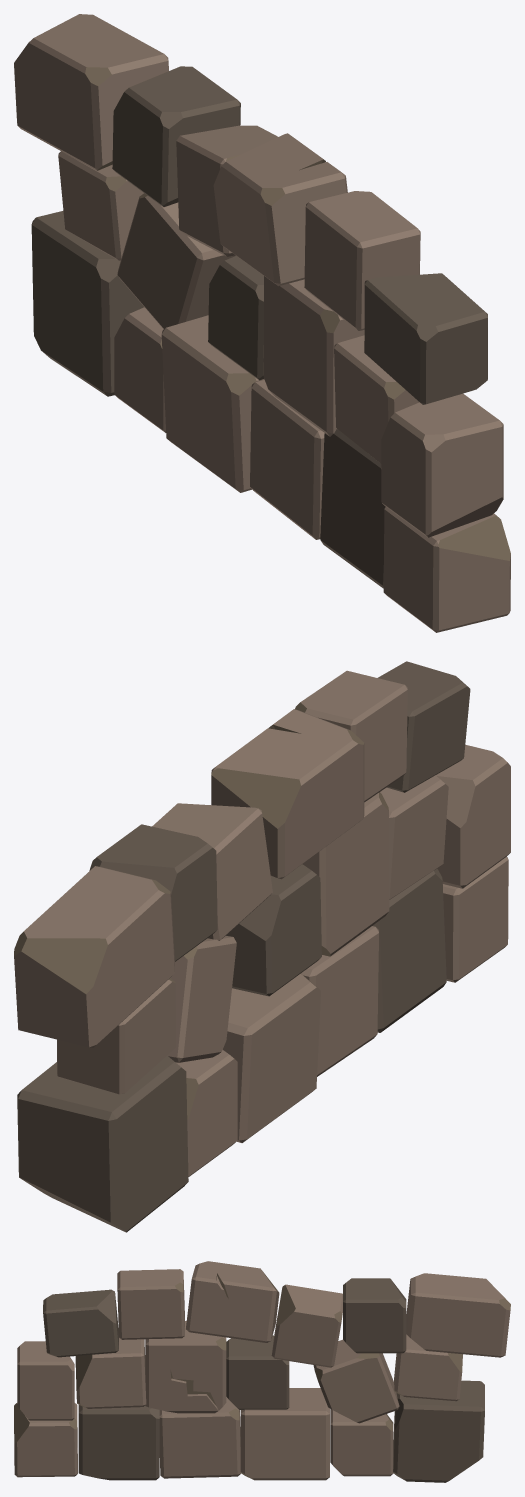
Rendered from Stones.fbx.
3 views of the same model, one above another, from view 1: azimuth 30°, elevation 25°; view 2: azimuth 150°, elevation 25°; view 3: azimuth 270°, elevation 25° (orthographic). The views are drawn at different scales.
Visible parts, largest first — view 1: Cube; view 2: Cube; view 3: Cube.
Part boxes in pixels (left/top/right/bottom): Cube: left=14, top=14, right=510, bottom=632; Cube: left=14, top=661, right=510, bottom=1232; Cube: left=14, top=1261, right=510, bottom=1482.
Size of the model in its own units: 114 by 335 by 761.
